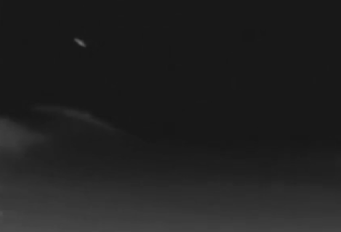Target: (76, 39, 86, 47)
